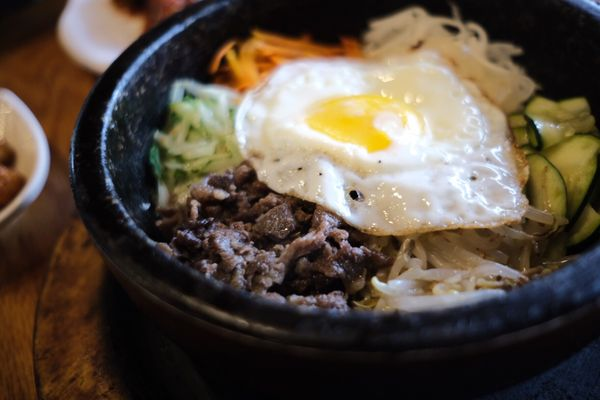curry: (152, 81, 245, 201)
sushi: (68, 3, 600, 374), (0, 83, 52, 233)
